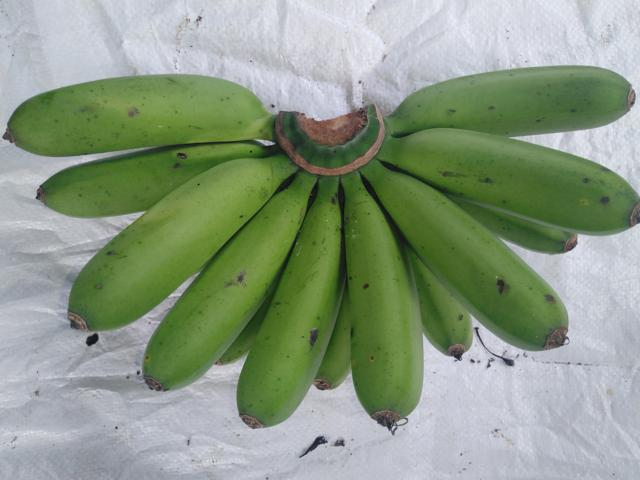unripe: (57, 152, 291, 371), (350, 163, 586, 364), (134, 193, 311, 394), (234, 185, 361, 434), (390, 121, 639, 242), (361, 49, 639, 156), (331, 173, 431, 436), (0, 71, 271, 165), (10, 138, 268, 213)
